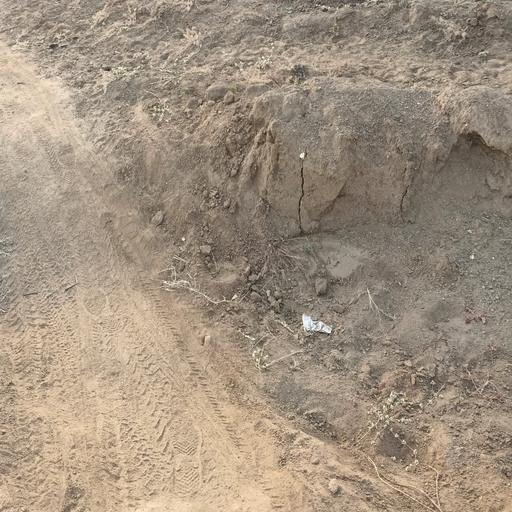vehicle_track: (0, 40, 301, 512)
